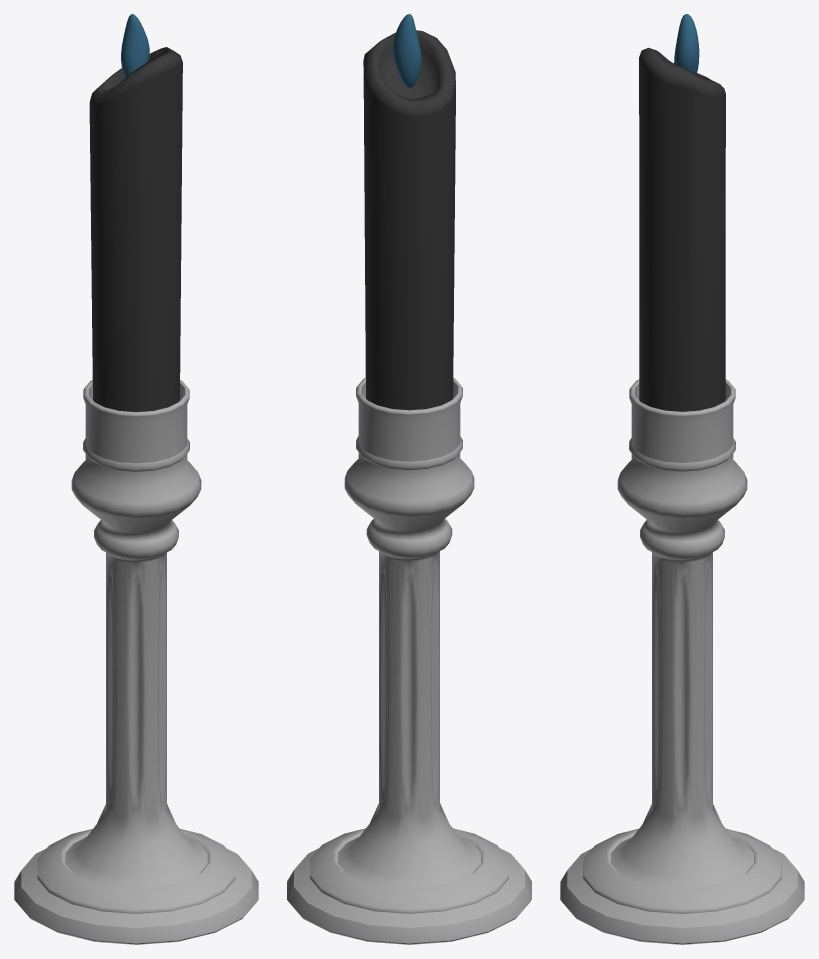
The model's file is CandleStickA_SM.fbx.
3 renders of one model, left to right at view 1: azimuth 30°, elevation 25°; view 2: azimuth 150°, elevation 25°; view 3: azimuth 270°, elevation 25°, orthographic.
Parts seen in each view (by area): view 1: pCylinder13; view 2: pCylinder13; view 3: pCylinder13.
Part boxes in pixels (x1=…): pCylinder13: x1=14, y1=14, x2=258, y2=944; pCylinder13: x1=287, y1=14, x2=531, y2=944; pCylinder13: x1=560, y1=14, x2=804, y2=944.
Bounding box in the file's own units: 0.0875 × 0.3419 × 0.0862.
